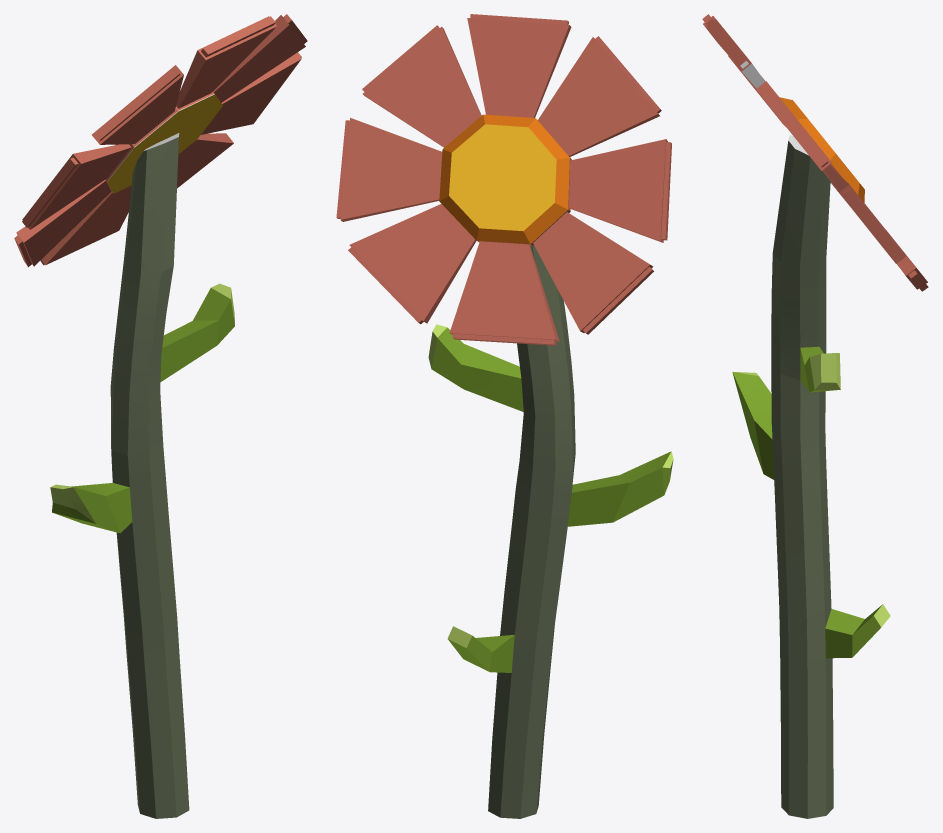
The model's file is flot.fbx.
3 renders of one model, left to right at view 1: azimuth 30°, elevation 25°; view 2: azimuth 150°, elevation 25°; view 3: azimuth 270°, elevation 25°, orthographic. The views are drawn at different scales.
Parts seen in each view (by area): view 1: Circle.002; view 2: Circle.002; view 3: Circle.002.
Part boxes in pixels (x1,y1,x2,y2): Circle.002: (14,14,307,818); Circle.002: (336,14,673,818); Circle.002: (702,14,928,818).
Size of the model in its own units: 65.43 by 162 by 42.34.
